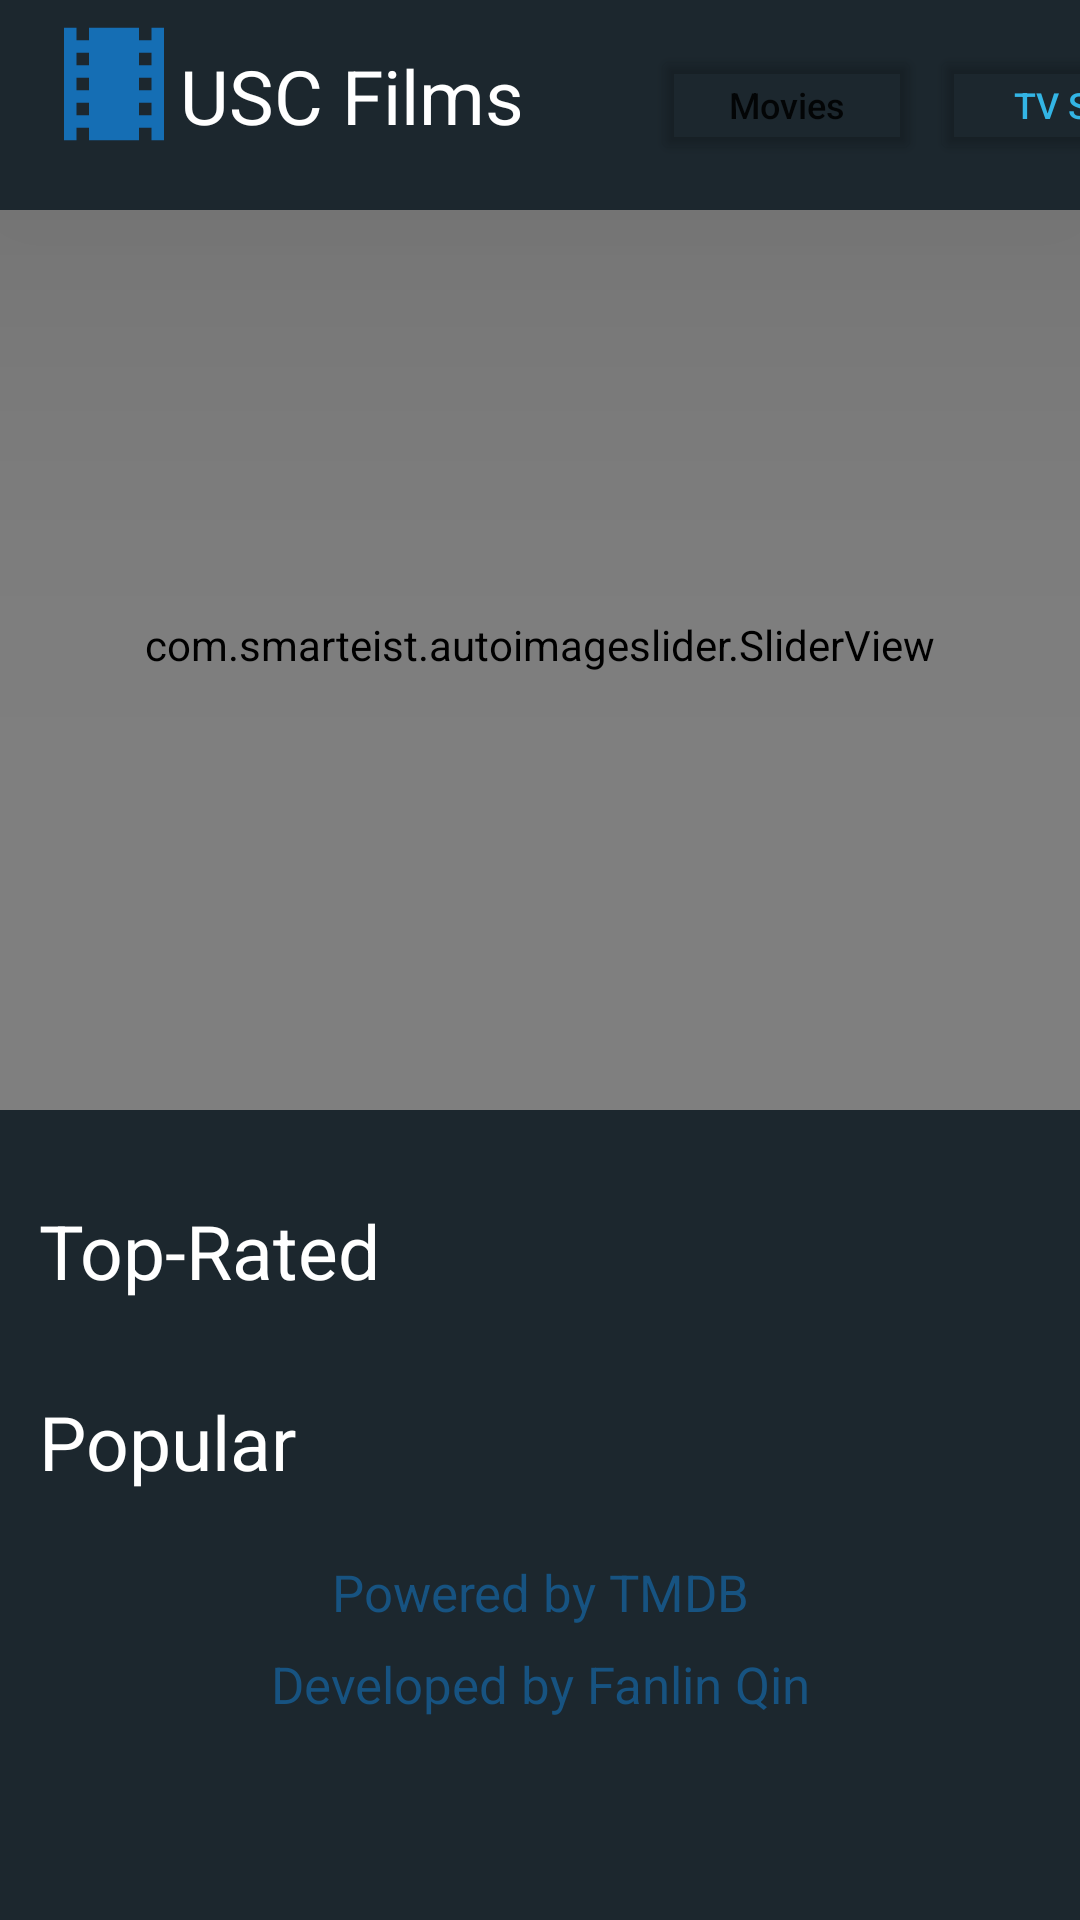

Locate icon controls on the screen. Image size 1080 × 1920, boxes as rect(x1, y1, x2, y2).
theaters: rect(64, 27, 164, 141)
